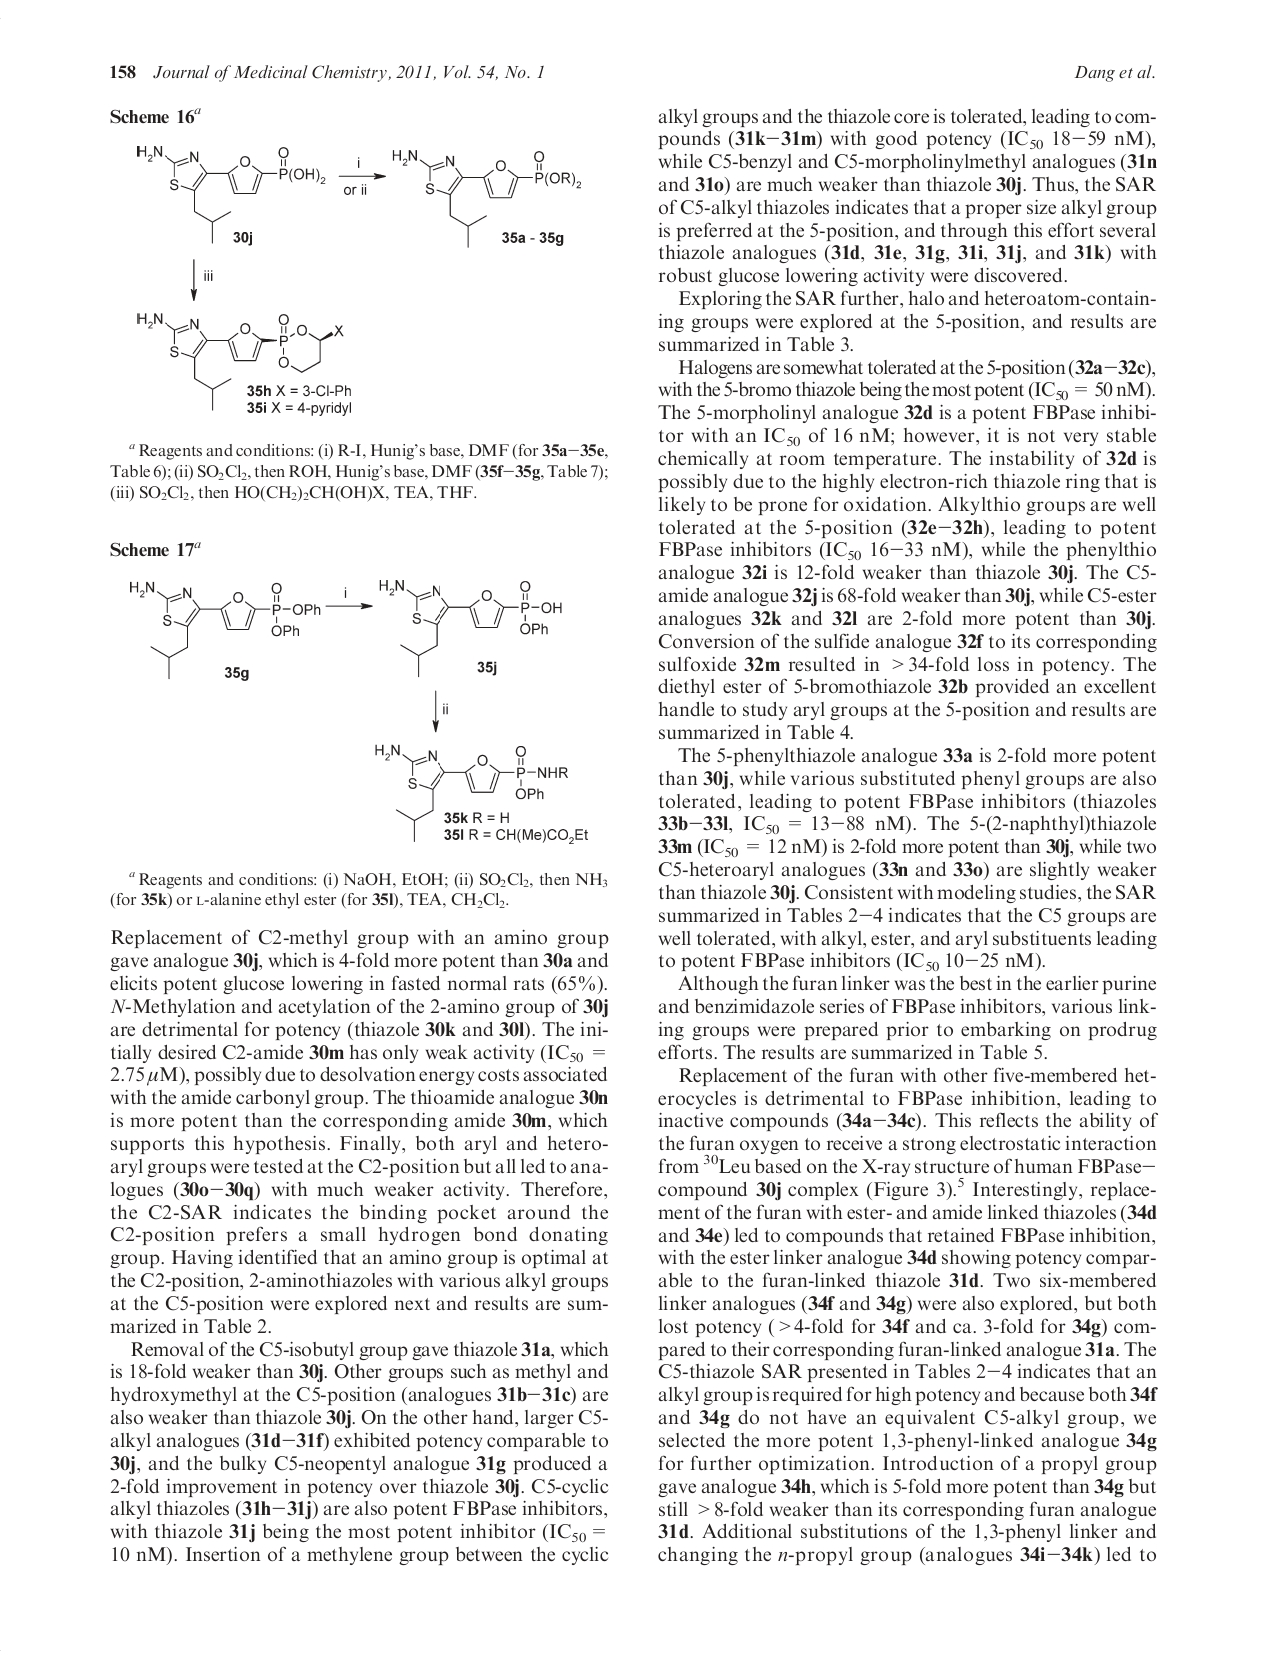exist_molecular: (133, 309, 344, 414), (124, 575, 326, 681), (372, 739, 570, 844), (388, 144, 584, 247), (376, 572, 564, 680), (134, 142, 327, 246)
